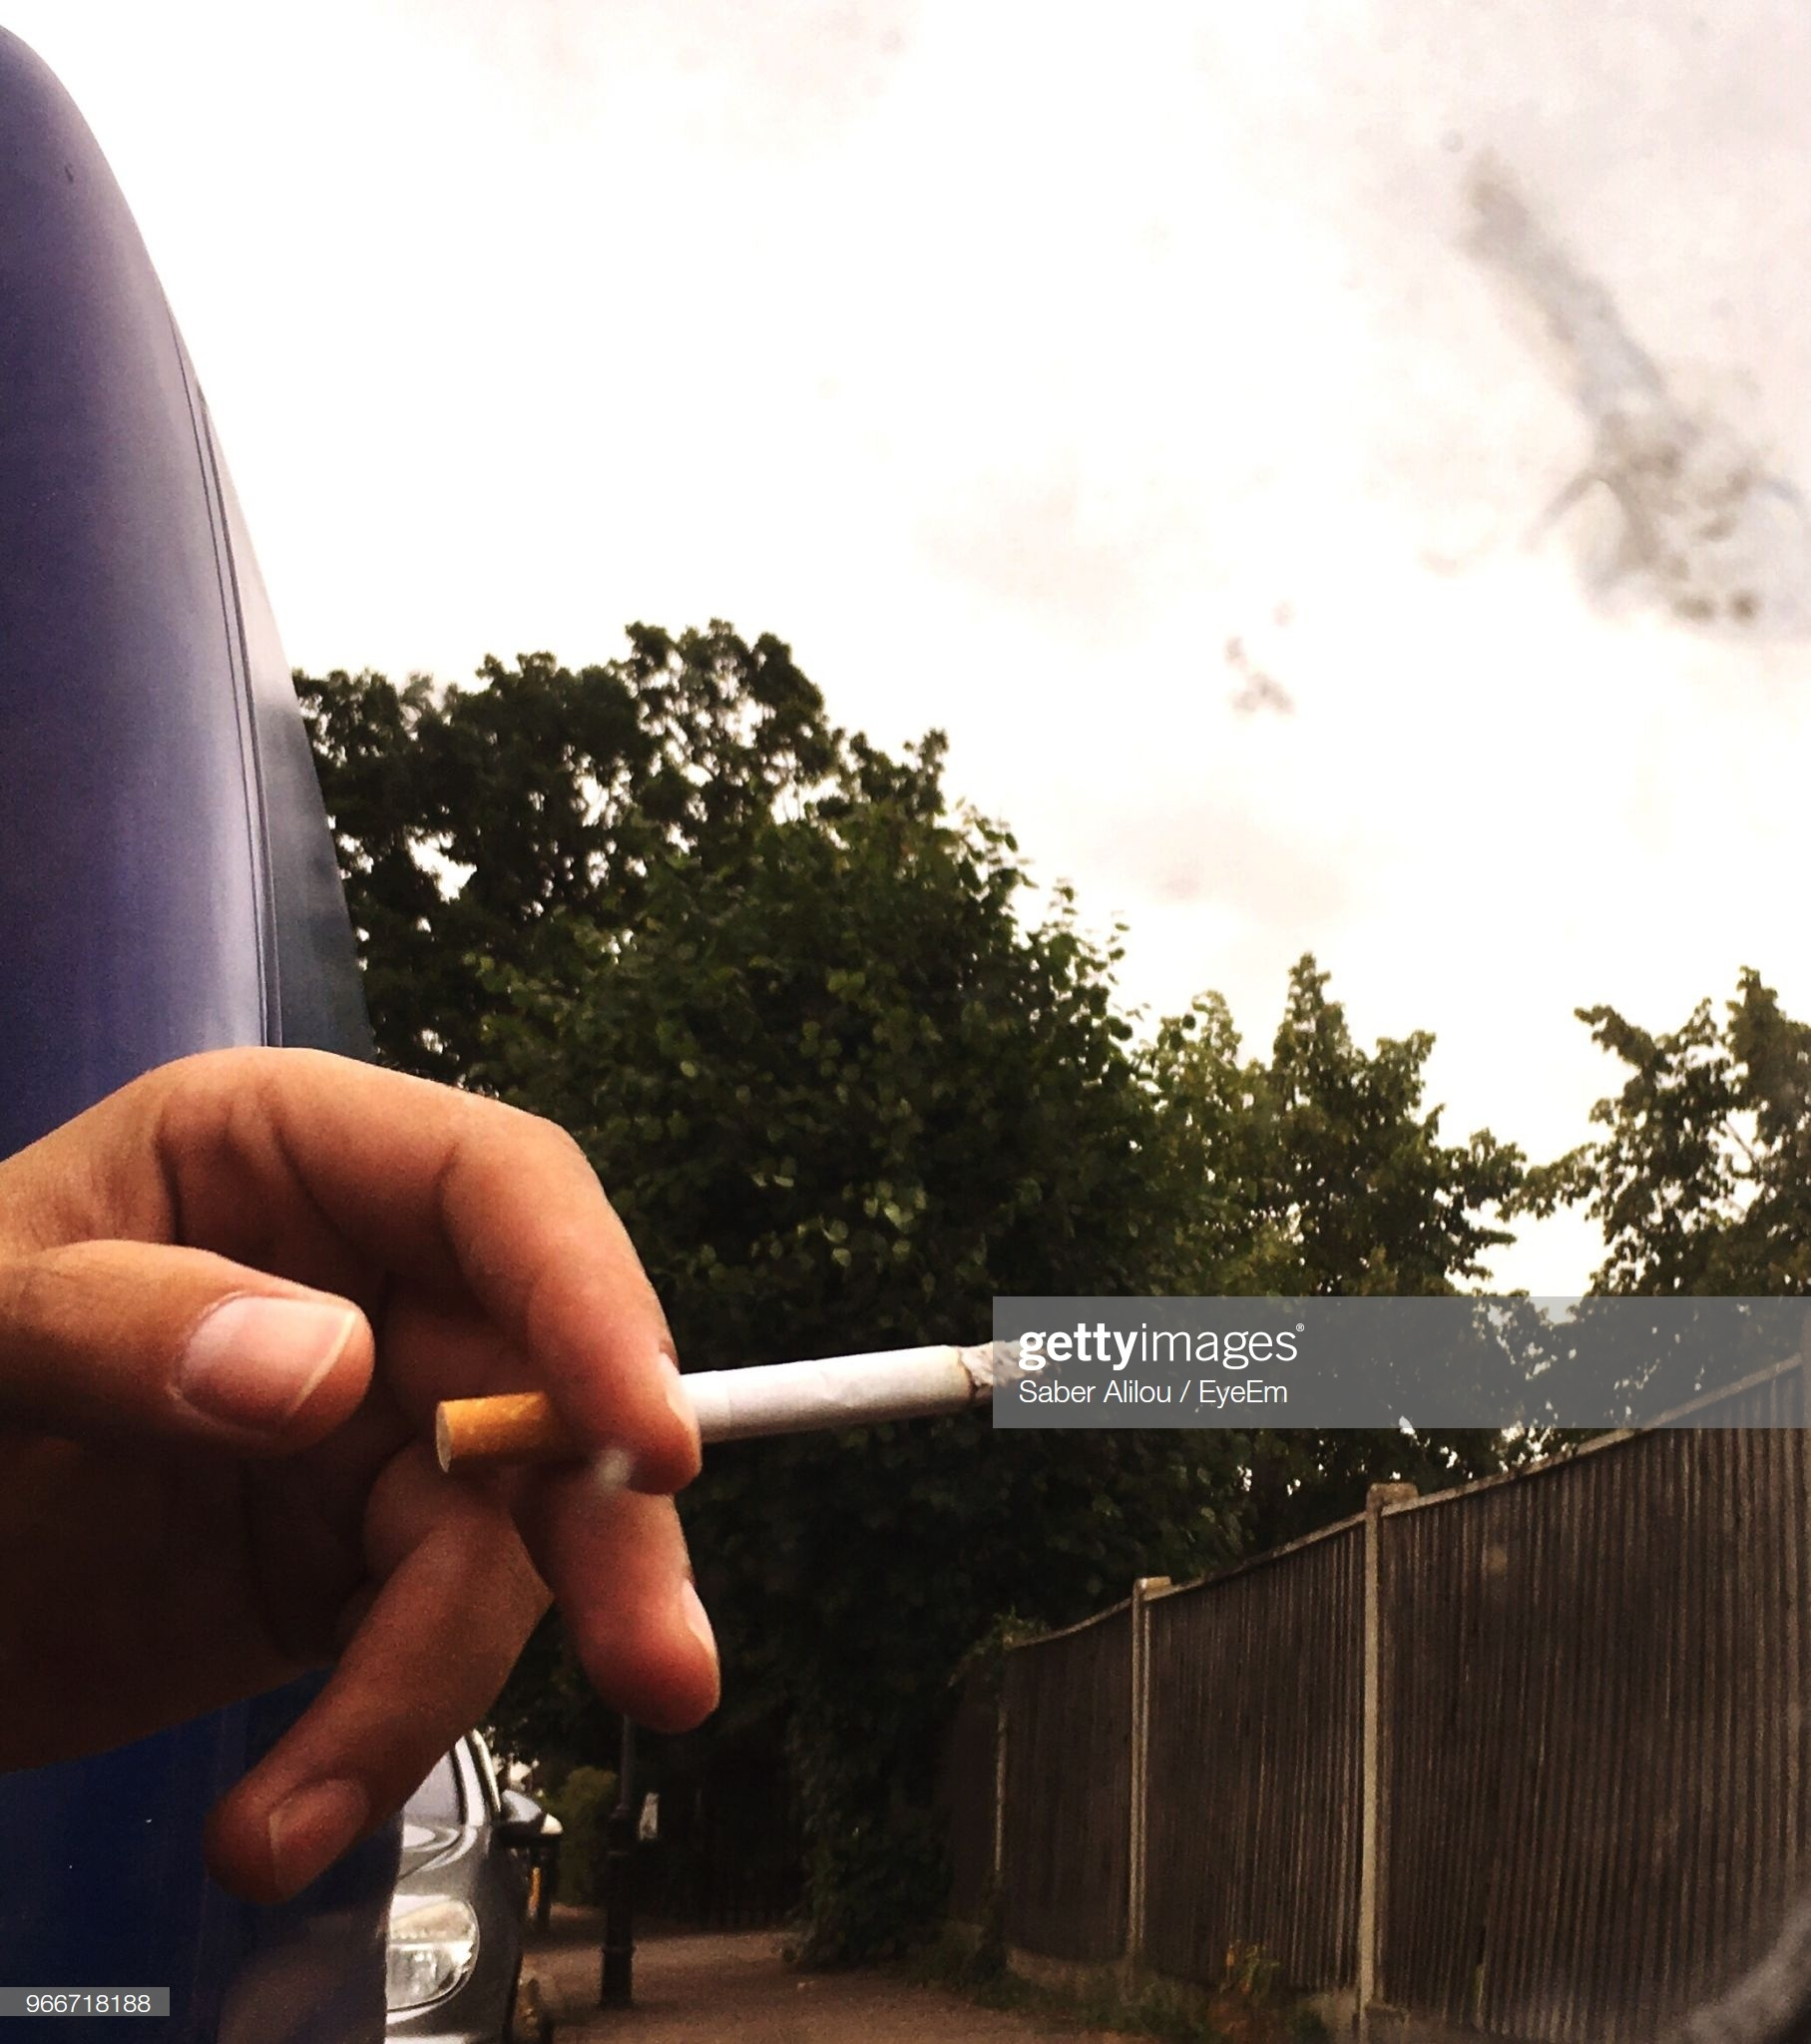sigaretta: (418, 1299, 1152, 1457)
